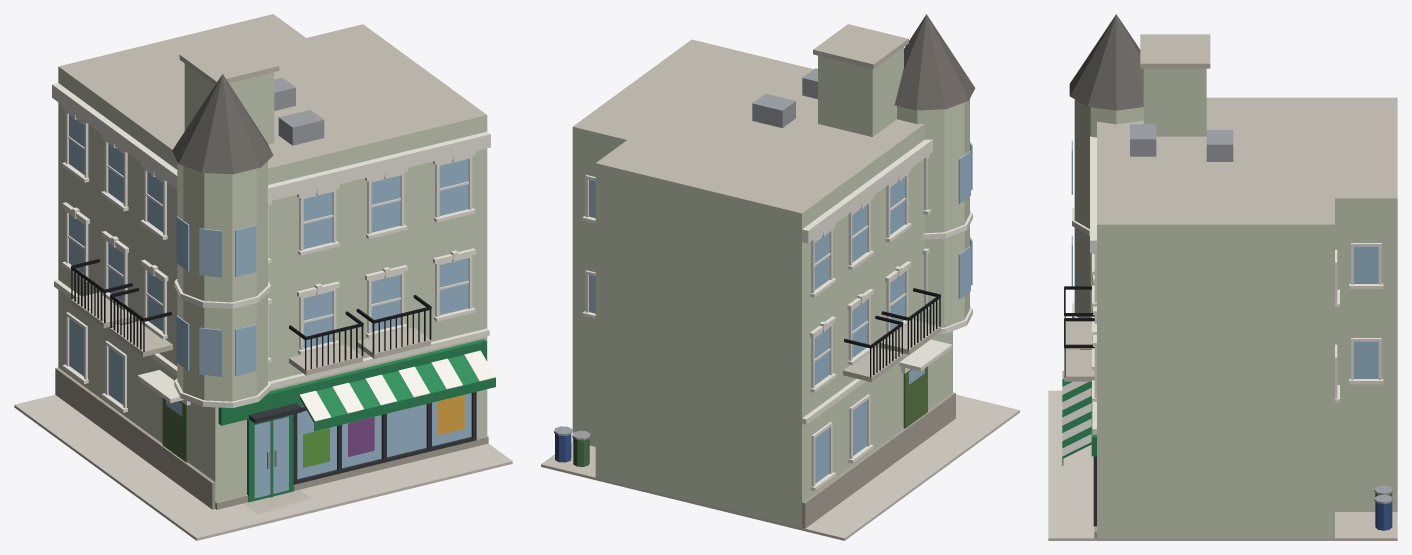
The model's file is Blok_kose_3k_1_Hafif.fbx.
3 renders of one model, left to right at view 1: azimuth 30°, elevation 25°; view 2: azimuth 150°, elevation 25°; view 3: azimuth 270°, elevation 25°, orthographic. The views are drawn at different scales.
Parts seen in each view (by area): view 1: Blok_kose_3k_1_Hafif; view 2: Blok_kose_3k_1_Hafif; view 3: Blok_kose_3k_1_Hafif.
Part boxes in pixels (bbox=[...]): Blok_kose_3k_1_Hafif: bbox=[14, 14, 512, 540]; Blok_kose_3k_1_Hafif: bbox=[541, 14, 1019, 540]; Blok_kose_3k_1_Hafif: bbox=[1048, 14, 1397, 540].
Size of the model in its own units: 10 by 12.92 by 10.
